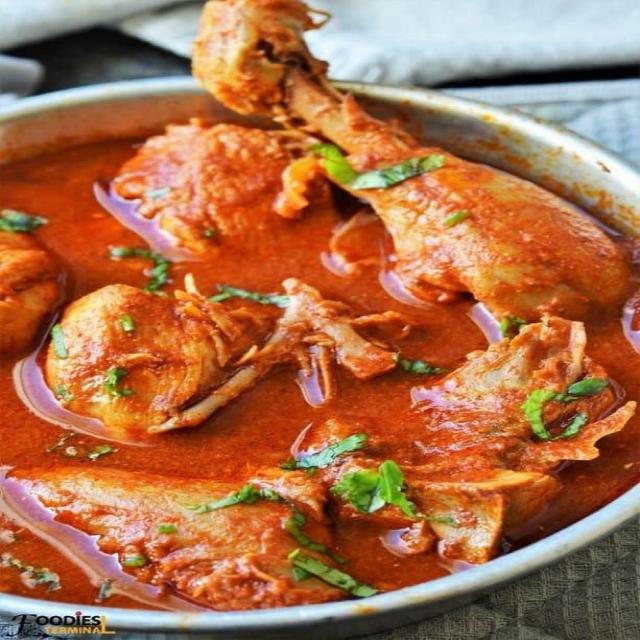chicken: (13, 44, 640, 606)
